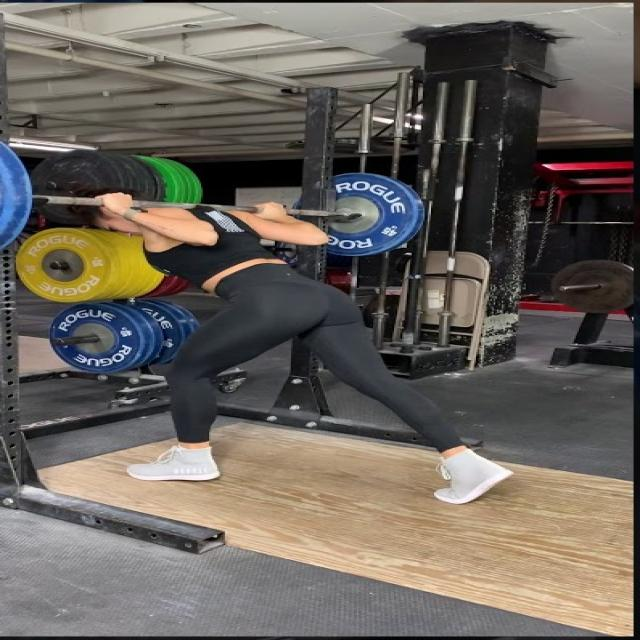squat: (0, 126, 548, 518)
